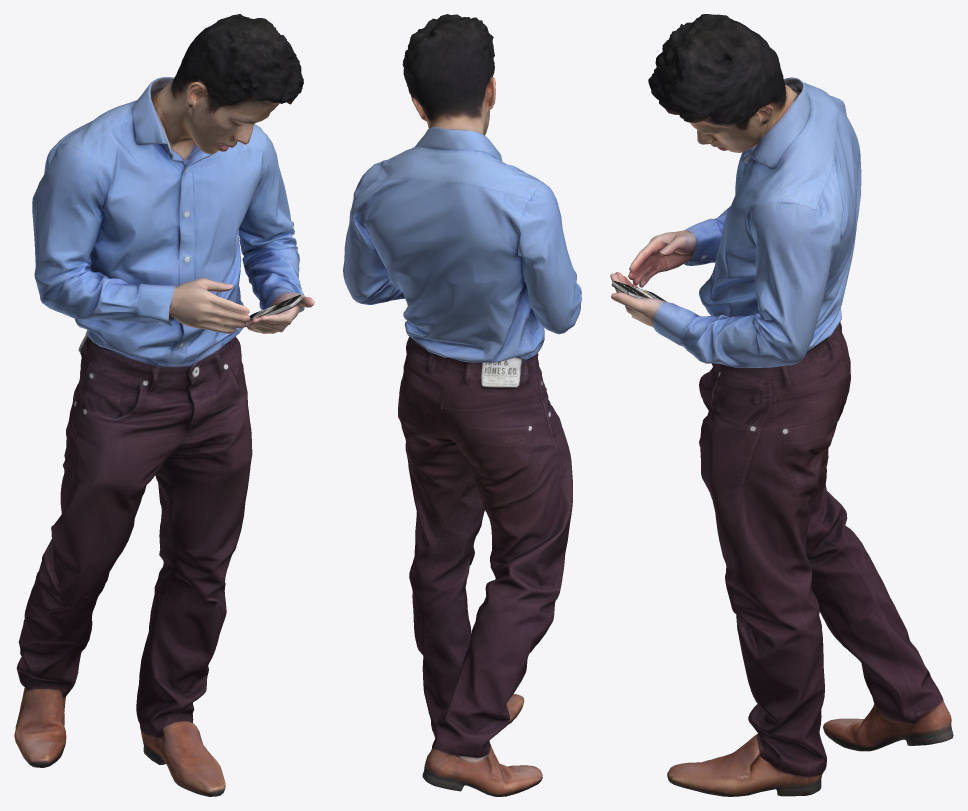
Rendered from man_with_mobile_phone_-_original.glb.
The picture shows the model from 3 angles, left to right: view 1: azimuth 30°, elevation 25°; view 2: azimuth 150°, elevation 25°; view 3: azimuth 270°, elevation 25°; orthographic projection. The views are drawn at different scales.
Parts seen in each view (by area): view 1: Mesh1__auto__0; view 2: Mesh1__auto__0; view 3: Mesh1__auto__0.
Boxes of the visible parts, box(x1,y1,x2,y2) form: Mesh1__auto__0: box(14, 14, 314, 796); Mesh1__auto__0: box(343, 14, 581, 796); Mesh1__auto__0: box(610, 14, 953, 796).
Size of the model in its own units: 0.6266 by 1.78 by 0.7037.
Materials: 1 (1 with a texture image).
